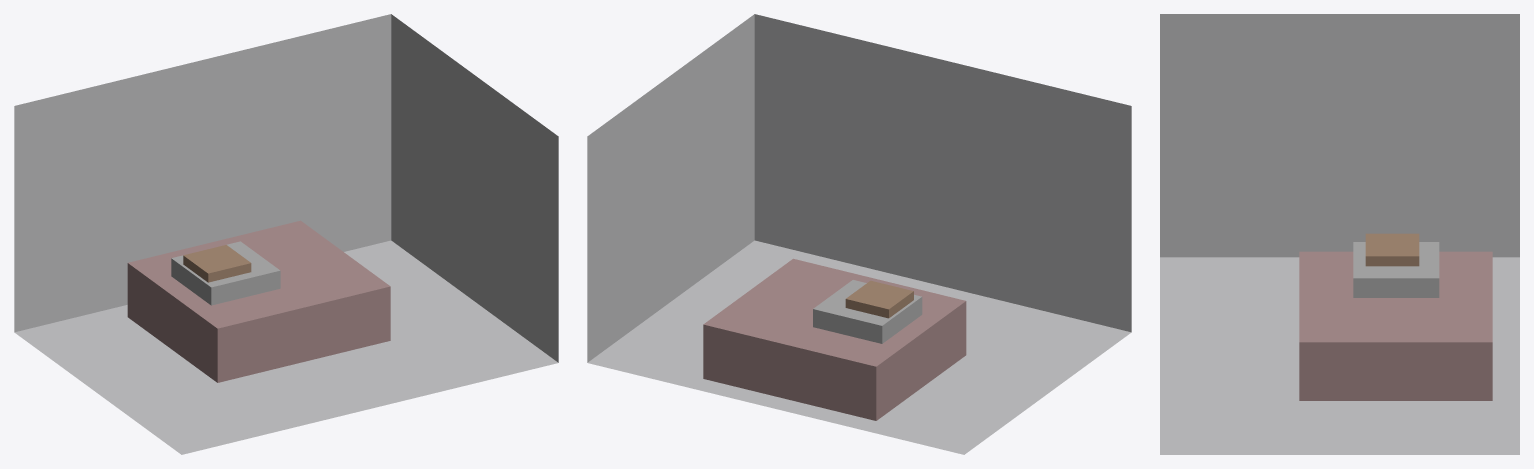
Rendered from optimised_layout.glb.
The picture shows the model from 3 angles, left to right: view 1: azimuth 30°, elevation 25°; view 2: azimuth 150°, elevation 25°; view 3: azimuth 270°, elevation 25°; orthographic projection. The views are drawn at different scales.
Parts seen in each view (by area): view 1: room, bed, studyTable, chair; view 2: room, bed, studyTable, chair; view 3: room, bed, studyTable, chair.
Boxes of the visible parts, left/top/right/bottom form: room: left=14, top=14, right=558, bottom=454; bed: left=127, top=220, right=390, bottom=382; studyTable: left=171, top=241, right=280, bottom=305; chair: left=183, top=245, right=251, bottom=282; room: left=587, top=14, right=1131, bottom=454; bed: left=703, top=258, right=966, bottom=420; studyTable: left=813, top=280, right=922, bottom=343; chair: left=845, top=280, right=913, bottom=318; room: left=1160, top=14, right=1519, bottom=454; bed: left=1299, top=251, right=1492, bottom=400; studyTable: left=1353, top=242, right=1439, bottom=297; chair: left=1365, top=233, right=1419, bottom=266.
Size of the model in its own units: 4.36 by 2.5 by 3.35.
